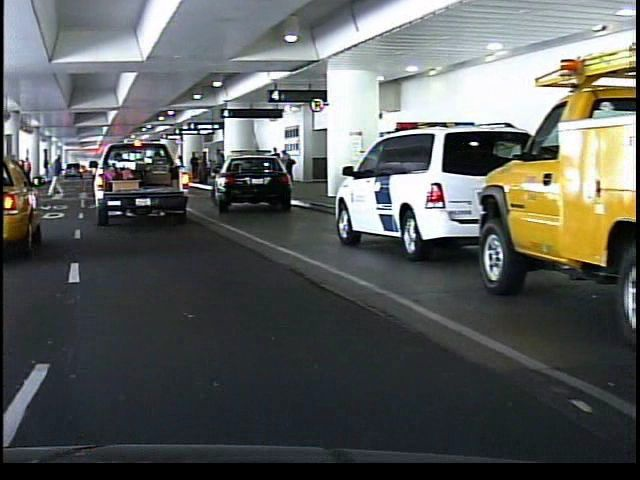person: (46, 151, 63, 199)
